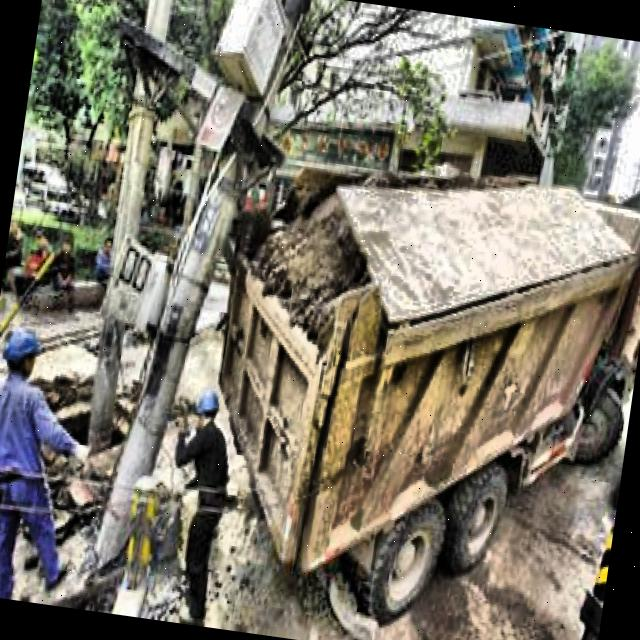helmet: (0, 321, 47, 388), (186, 380, 222, 440)
